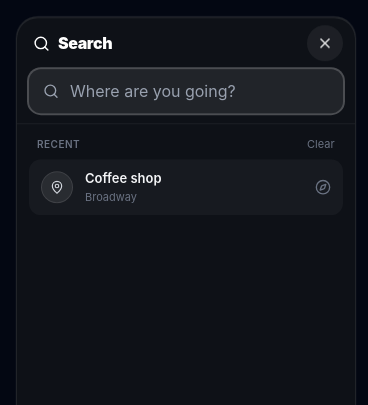
Scenario: SearchSheet directions prefill › requests Current location when a search destination is chosen
Click the button "Coffee shop Broadway" at (57, 187), box [29,159,343,215]
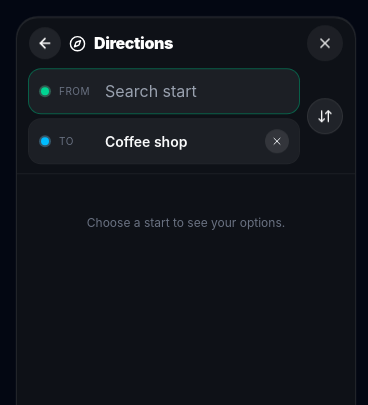
Check: the button with aria-label "To: Coffee shop" is shown, box [29,119,255,163]
